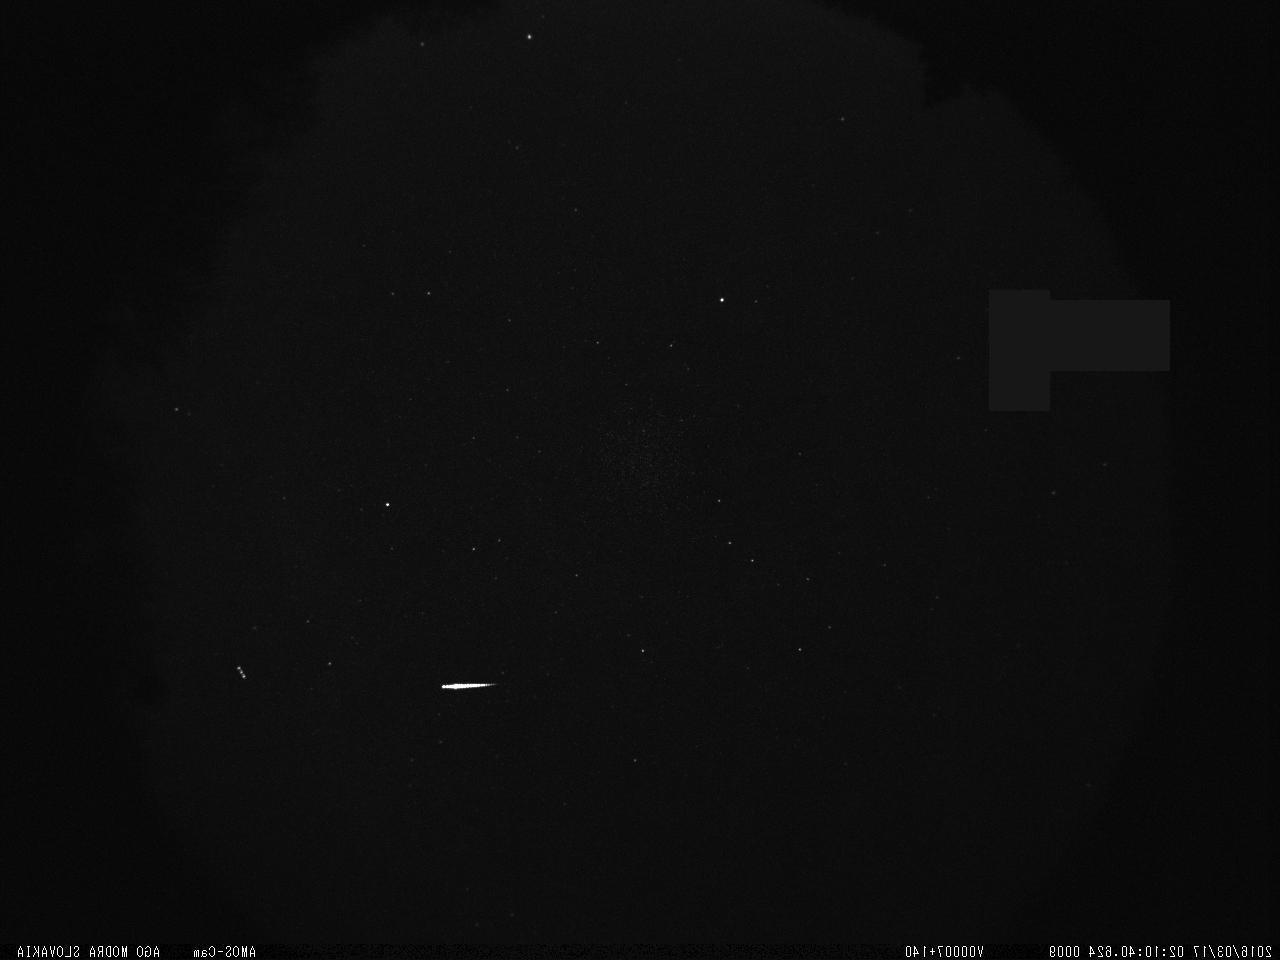meteor: (437, 678, 505, 696)
satelite: (230, 658, 250, 687)
